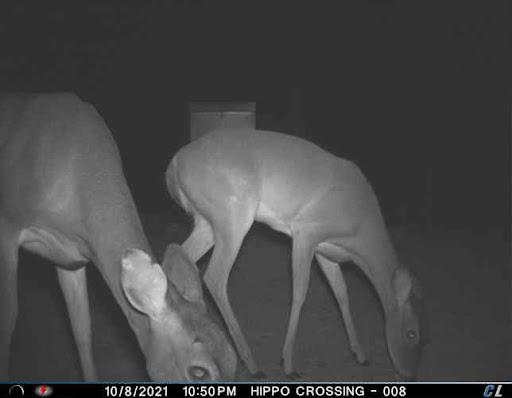Deer: (5, 83, 250, 385), (161, 118, 432, 383)
